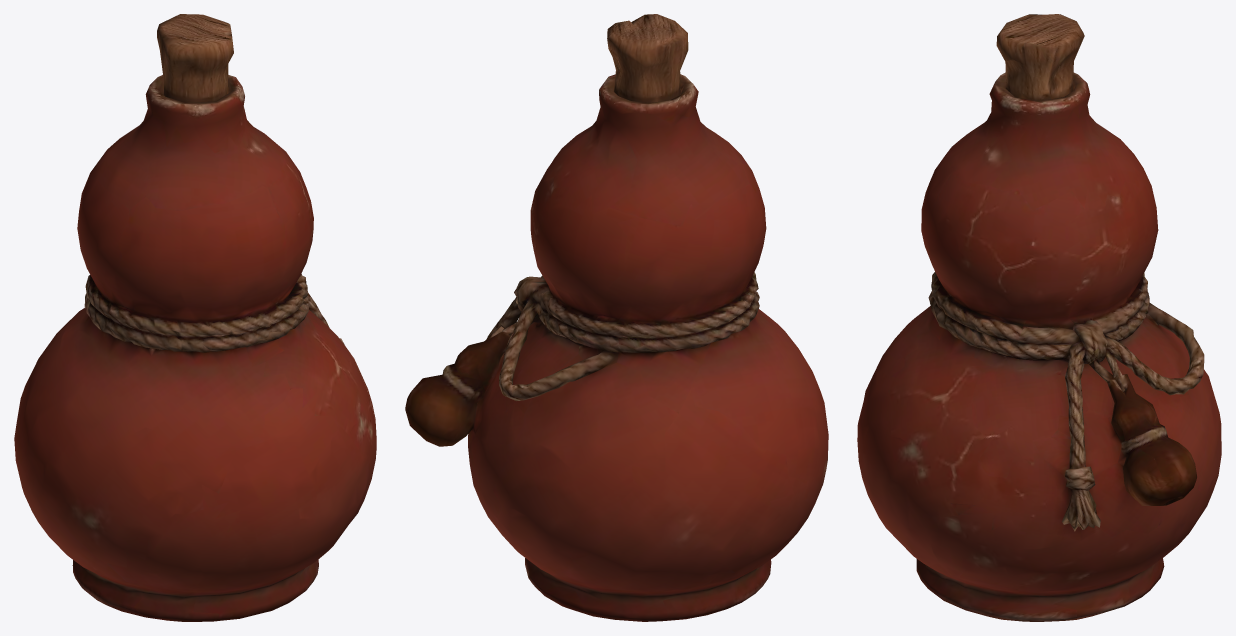
The picture shows the model from 3 angles, left to right: view 1: azimuth 30°, elevation 25°; view 2: azimuth 150°, elevation 25°; view 3: azimuth 270°, elevation 25°; orthographic projection.
Visible parts, largest first — view 1: tripo_node_1020a3fc-3b53-45c3-a366-d2b8bd57945d; view 2: tripo_node_1020a3fc-3b53-45c3-a366-d2b8bd57945d; view 3: tripo_node_1020a3fc-3b53-45c3-a366-d2b8bd57945d.
Part boxes in pixels (x1,y1,x2,y2): tripo_node_1020a3fc-3b53-45c3-a366-d2b8bd57945d: (14, 14, 376, 621); tripo_node_1020a3fc-3b53-45c3-a366-d2b8bd57945d: (405, 14, 828, 621); tripo_node_1020a3fc-3b53-45c3-a366-d2b8bd57945d: (857, 14, 1221, 621).
Size of the model in its own units: 0.6445 by 1 by 0.6029.
Materials: 1 (1 with a texture image).
